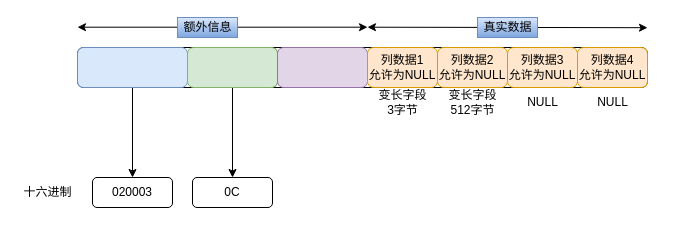
Image size: 674x225. Some labels were removed from this diagram. Here are the shapes that lost their labels. From the top down, the centre of each, then its label:
(132,67): 变长字段长度列表
(232,67): Null值列表
(322,67): 记录头
